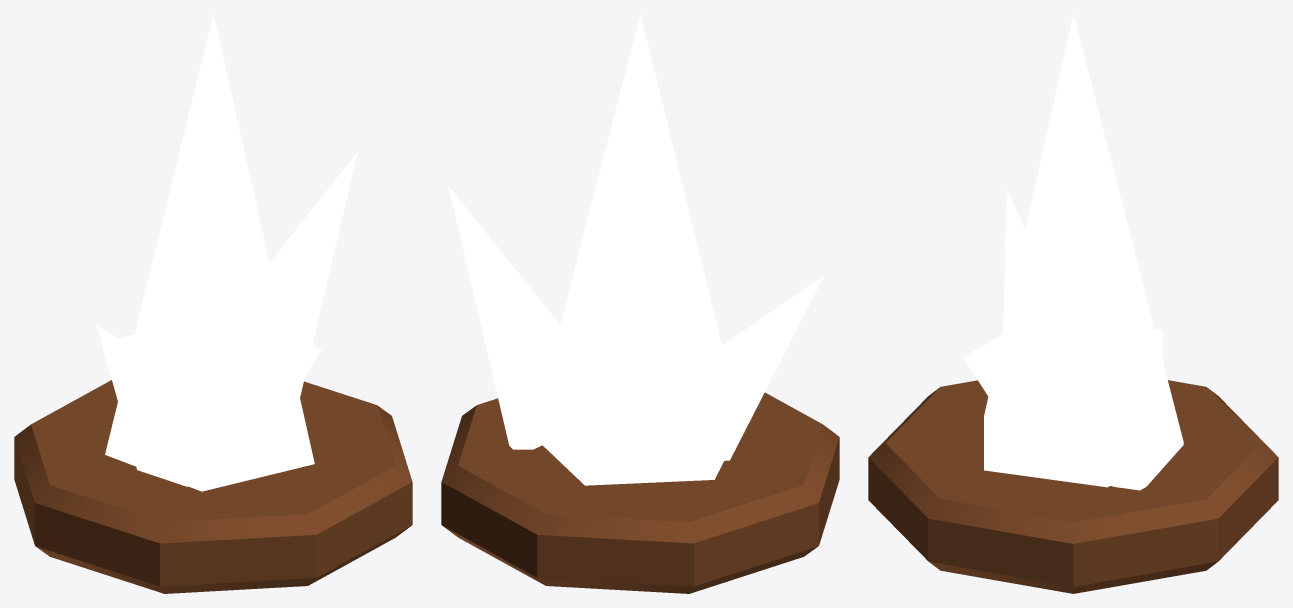
Rendered from cg_shards.glb.
3 renders of one model, left to right at view 1: azimuth 30°, elevation 25°; view 2: azimuth 150°, elevation 25°; view 3: azimuth 270°, elevation 25°, orthographic.
Parts seen in each view (by area): view 1: crystal_glow, body; view 2: crystal_glow, body; view 3: crystal_glow, body.
Part boxes in pixels (x1,y1,x2,y2): crystal_glow: [96, 14, 357, 491]; body: [14, 380, 412, 593]; crystal_glow: [448, 14, 823, 485]; body: [441, 392, 839, 593]; crystal_glow: [963, 14, 1183, 490]; body: [868, 380, 1278, 593].
Size of the model in its own units: 0.26 by 0.36 by 0.26.
